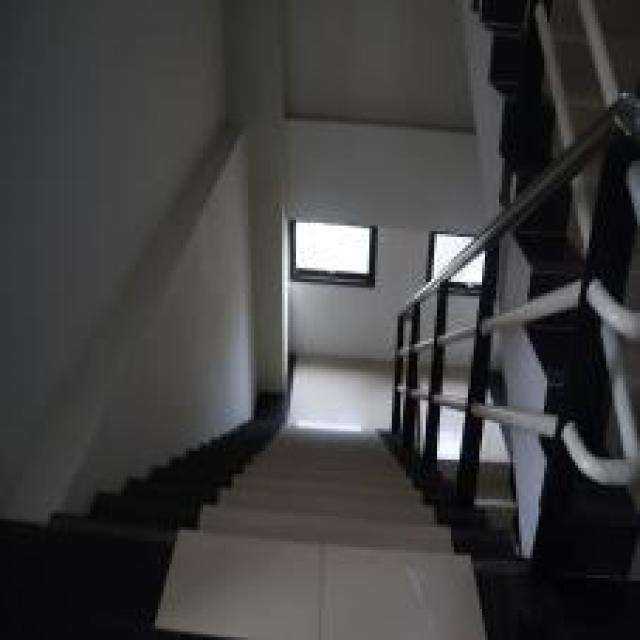downstair: (216, 435, 402, 613)
